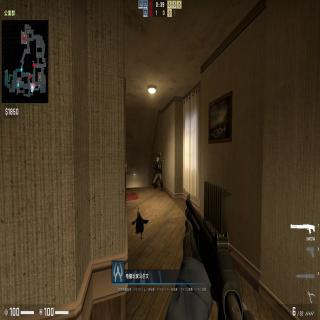T-Body: (152, 154, 164, 192)
T-Head: (156, 156, 160, 163)
